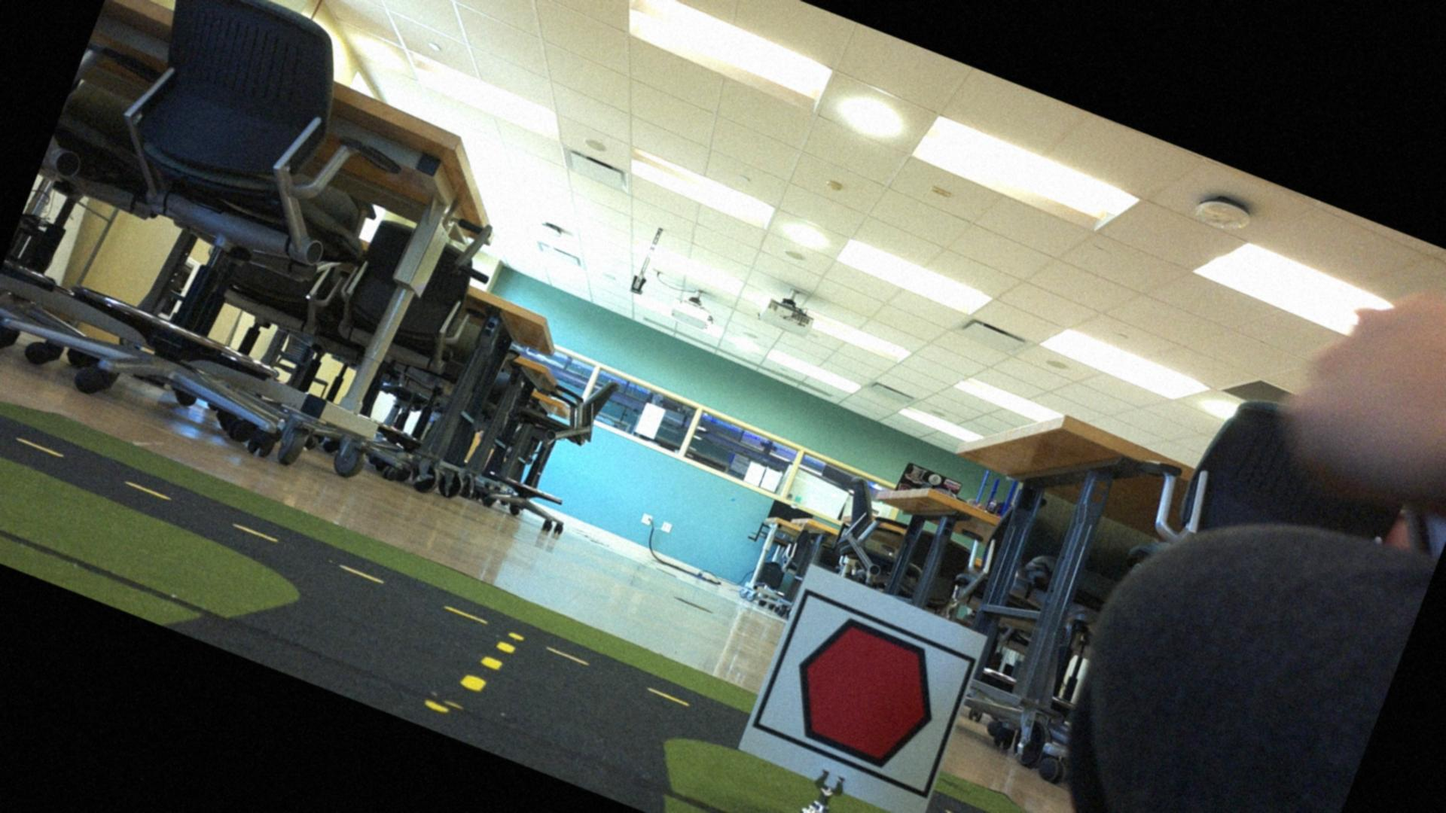stop: (760, 595, 967, 790)
yellowline: (423, 622, 517, 732)
